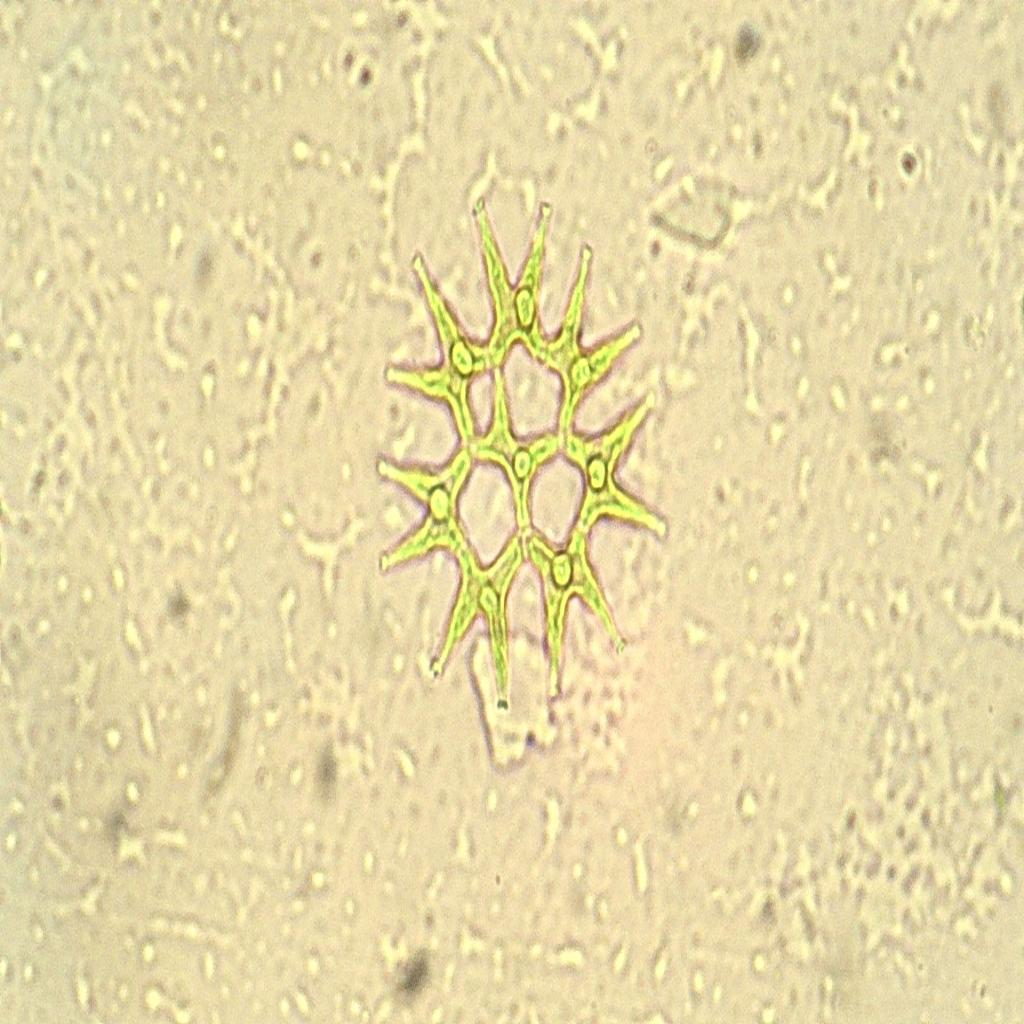Pediastrum_1T: (369, 180, 675, 729)
